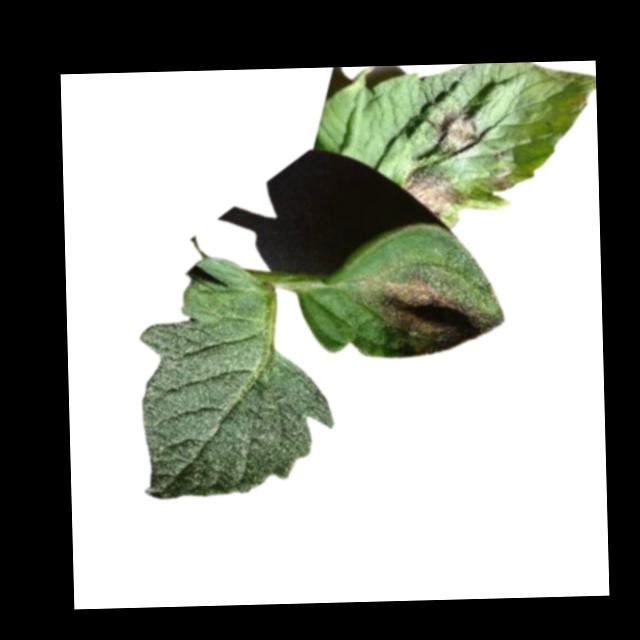Late_blight: (379, 278, 501, 357), (400, 163, 465, 217), (428, 107, 487, 156), (492, 173, 514, 194), (568, 91, 588, 112)
healthy: (137, 252, 336, 500)
